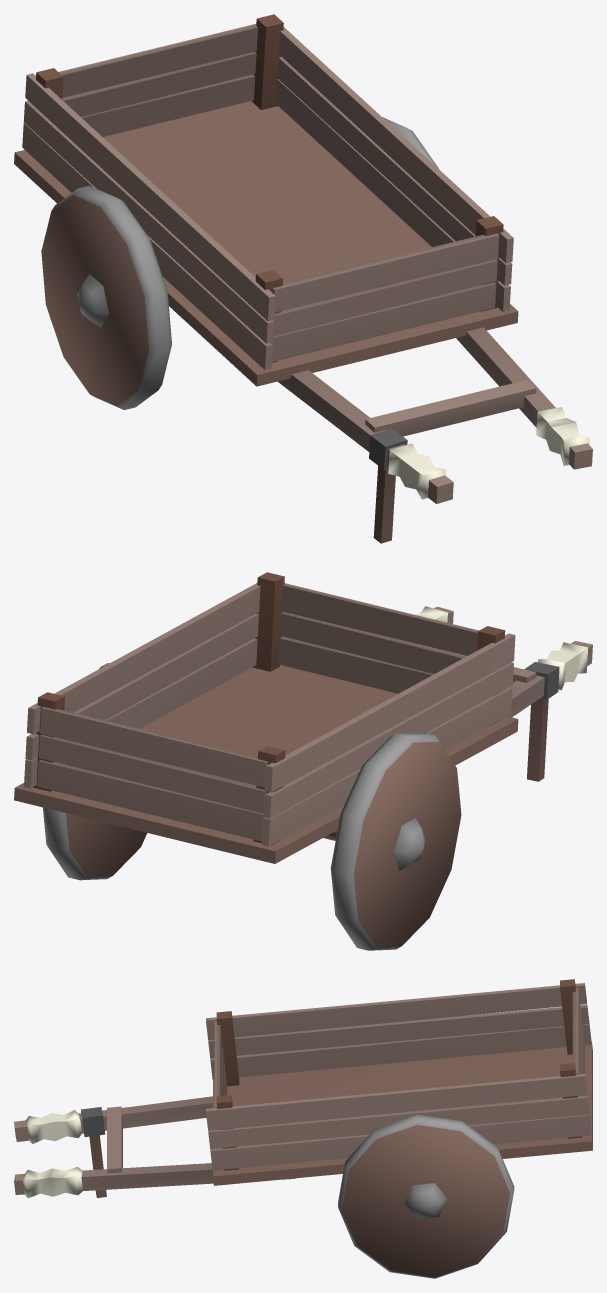
The model's file is dray_002.glb.
3 views of the same model, one above another, from view 1: azimuth 30°, elevation 25°; view 2: azimuth 150°, elevation 25°; view 3: azimuth 270°, elevation 25° (orthographic). The views are drawn at different scales.
Parts seen in each view (by area): view 1: dray_002.001; view 2: dray_002.001; view 3: dray_002.001.
Boxes of the visible parts, x1=… form: dray_002.001: x1=14, y1=14, x2=592, y2=543; dray_002.001: x1=14, y1=572, x2=592, y2=950; dray_002.001: x1=14, y1=979, x2=592, y2=1278.
Bounding box in the file's own units: 2.15 × 1.53 × 4.02.
1 material, 1 textured.
